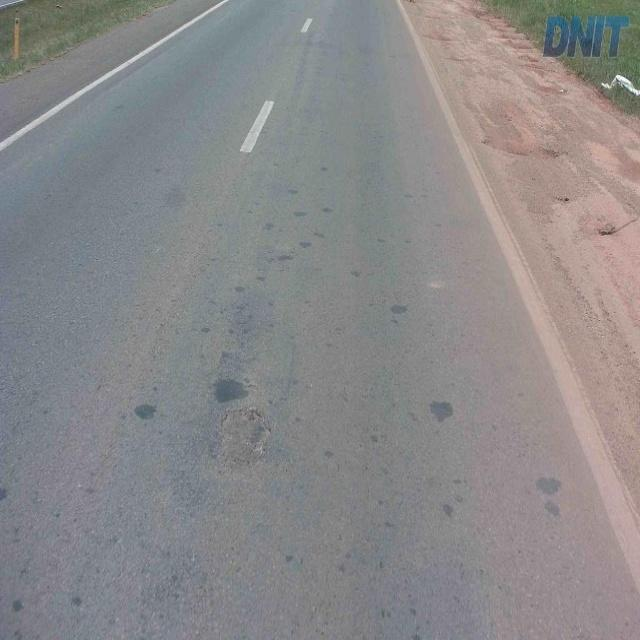pothole: (214, 401, 272, 472)
